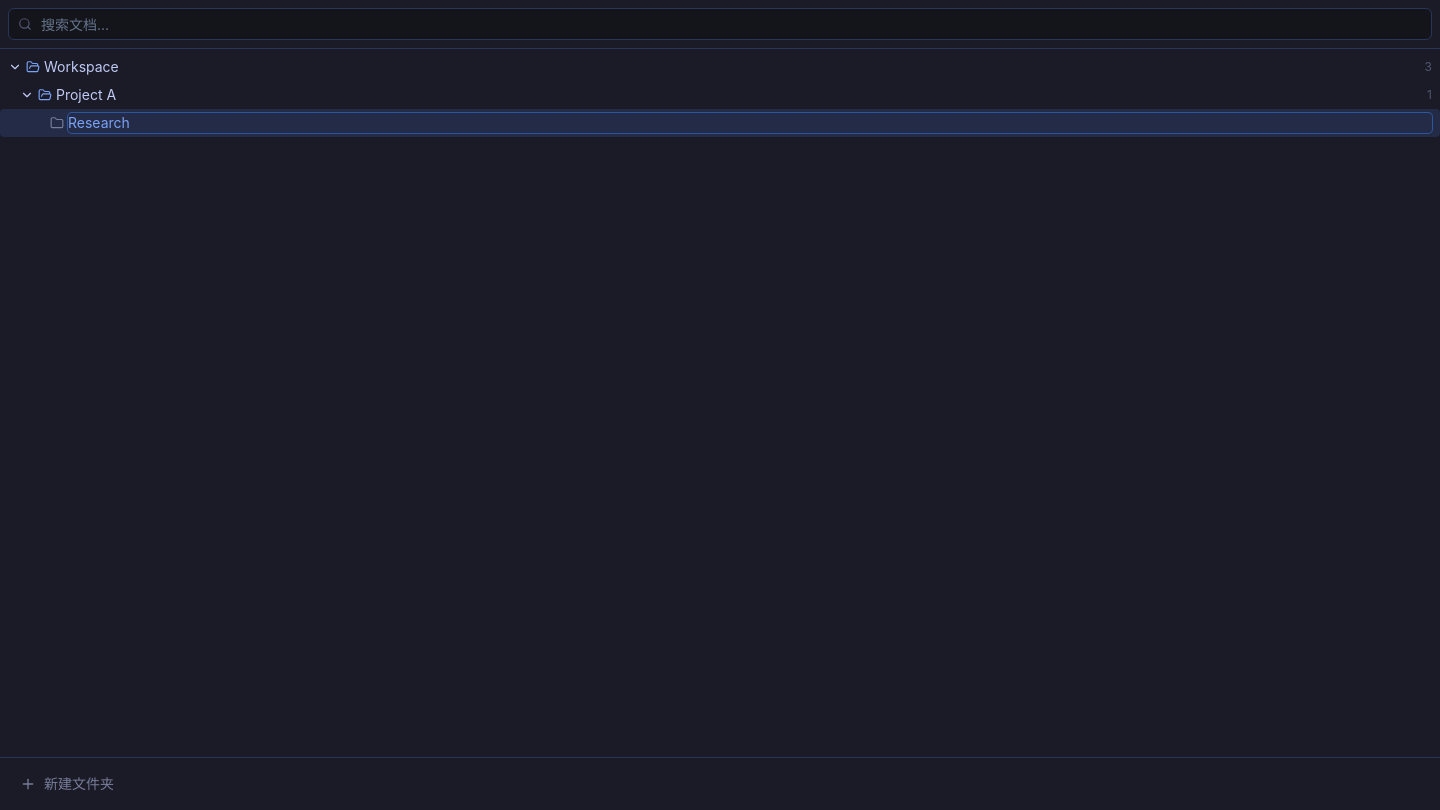
Scenario: WorkspacePanel › keeps manual collapse collapsed after route auto-expands the ancestor chain
Click the button named "折叠 Project A".
click(27, 95)  # box [20,88,34,102]
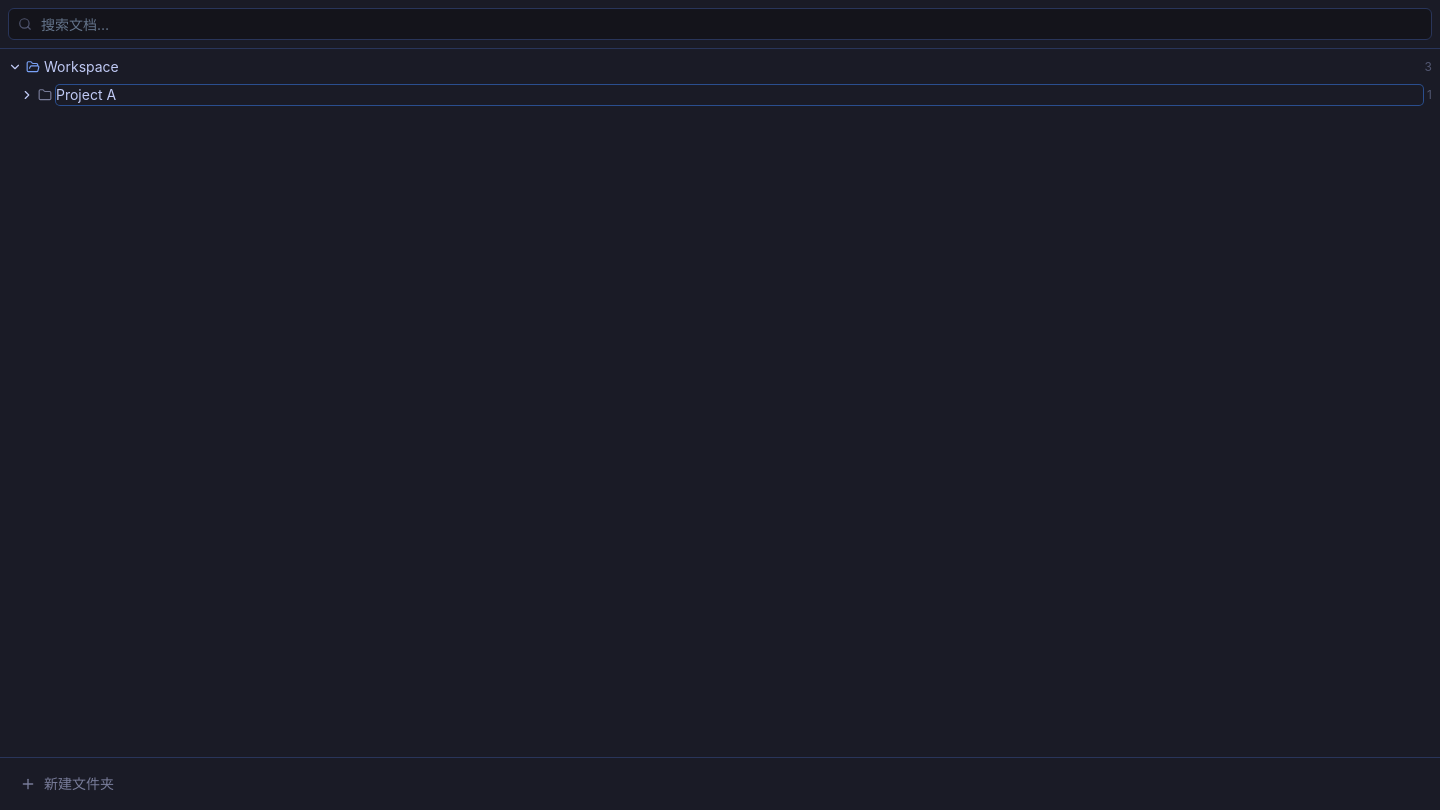
Now the button named "展开 Project A" is collapsed, box [20,88,34,102]
Now the text "Research" is gone
